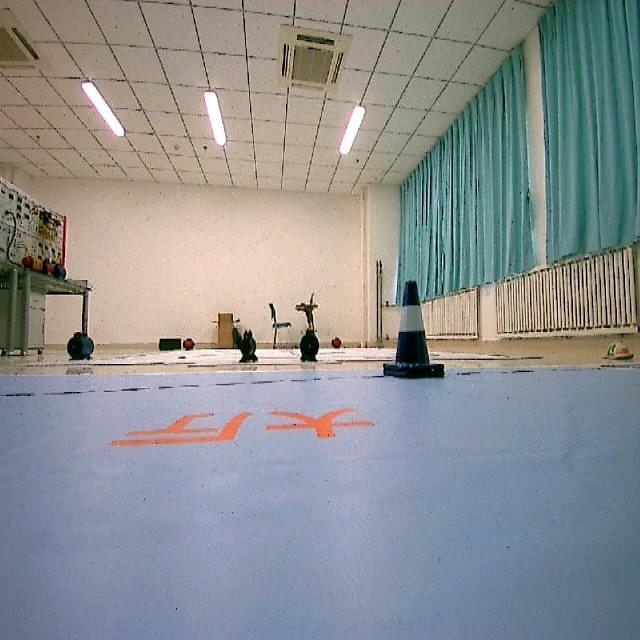obstacle: (378, 276, 446, 383)
